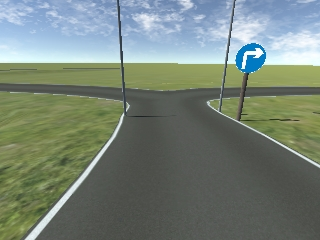right: (234, 42, 266, 73)
